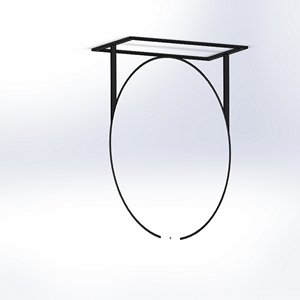circle: (87, 31, 249, 242)
